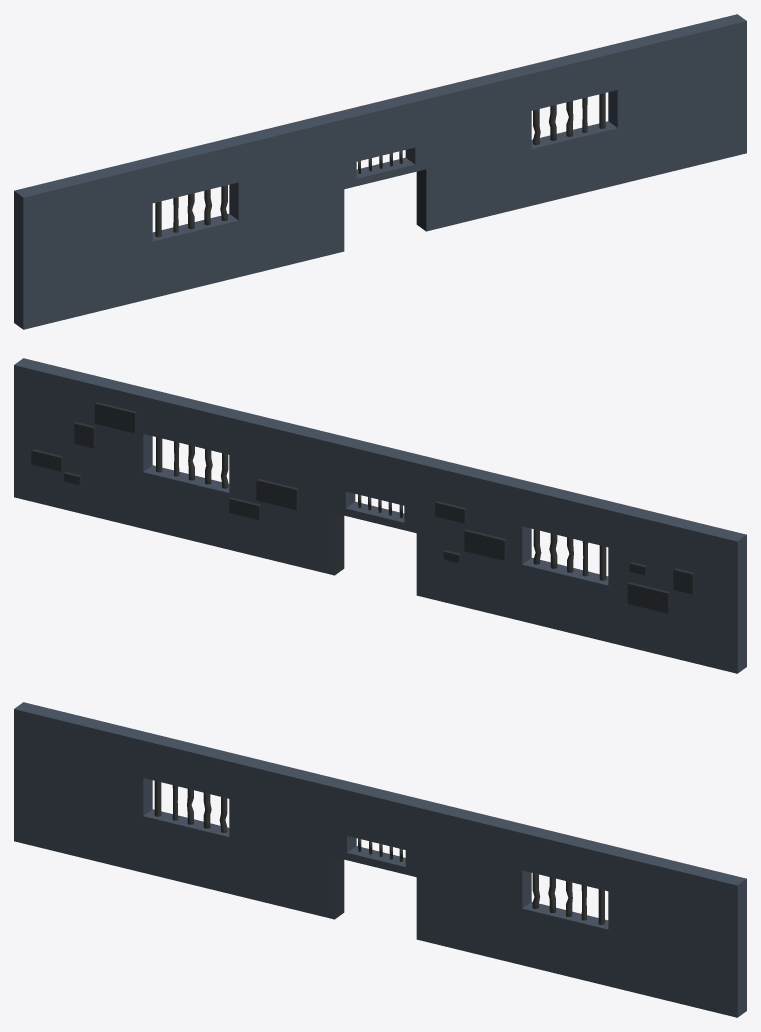
The model's file is PARED3.fbx.
The picture shows the model from 3 angles, top to bottom: view 1: azimuth 30°, elevation 25°; view 2: azimuth 150°, elevation 25°; view 3: azimuth 330°, elevation 25°; orthographic projection.
Parts seen in each view (by area): view 1: Cube; view 2: Cube; view 3: Cube.
Boxes of the visible parts, bbox=[...] form: Cube: bbox=[14, 14, 746, 329]; Cube: bbox=[14, 358, 746, 673]; Cube: bbox=[14, 702, 746, 1017].
Bounding box in the file's own units: 2206 × 385 × 61.13.
